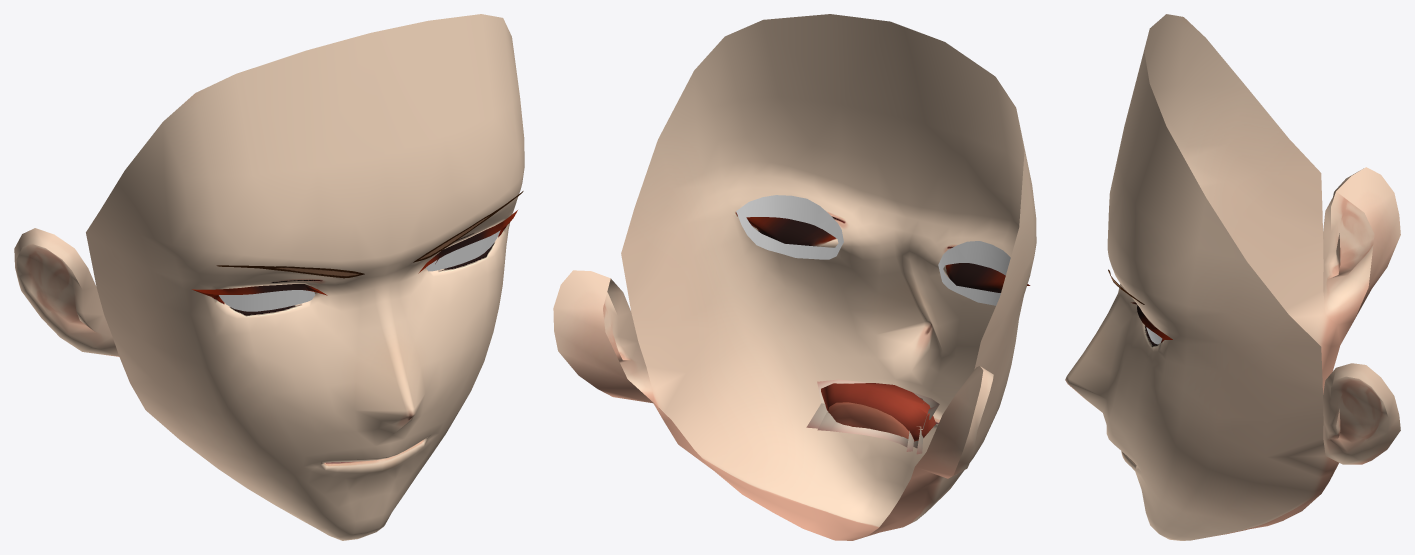
Rendered from Akiomi.fbx.
The picture shows the model from 3 angles, left to right: view 1: azimuth 30°, elevation 25°; view 2: azimuth 150°, elevation 25°; view 3: azimuth 270°, elevation 25°; orthographic projection. The views are drawn at different scales.
Visible parts, largest first — view 1: M_Head, M_Eye_B_Def, M_Mth_B_Def, M_PupALL_R_A_Def, M_Brw_B_Def, M_PupALL_L_A_Def; view 2: M_Head, M_Eye_B_Def, M_Mth_B_Def, M_PupALL_L_A_Def, M_PupALL_R_A_Def; view 3: M_Head, M_Eye_B_Def, M_Mth_B_Def.
Part boxes in pixels (bbox=[...]): M_Head: bbox=[14, 14, 524, 403]; M_Eye_B_Def: bbox=[140, 139, 524, 419]; M_Mth_B_Def: bbox=[119, 356, 483, 540]; M_PupALL_R_A_Def: bbox=[219, 290, 315, 311]; M_Brw_B_Def: bbox=[216, 191, 523, 278]; M_PupALL_L_A_Def: bbox=[426, 230, 500, 271]; M_Head: bbox=[553, 14, 1036, 478]; M_Eye_B_Def: bbox=[673, 137, 1036, 422]; M_Mth_B_Def: bbox=[652, 324, 997, 540]; M_PupALL_L_A_Def: bbox=[736, 195, 843, 259]; M_PupALL_R_A_Def: bbox=[938, 241, 1010, 305]; M_Head: bbox=[1109, 14, 1400, 464]; M_Eye_B_Def: bbox=[1065, 120, 1227, 456]; M_Mth_B_Def: bbox=[1066, 315, 1353, 540].
Size of the model in its own units: 0.1653 by 0.1807 by 0.1135.
5 materials, 3 textured.
